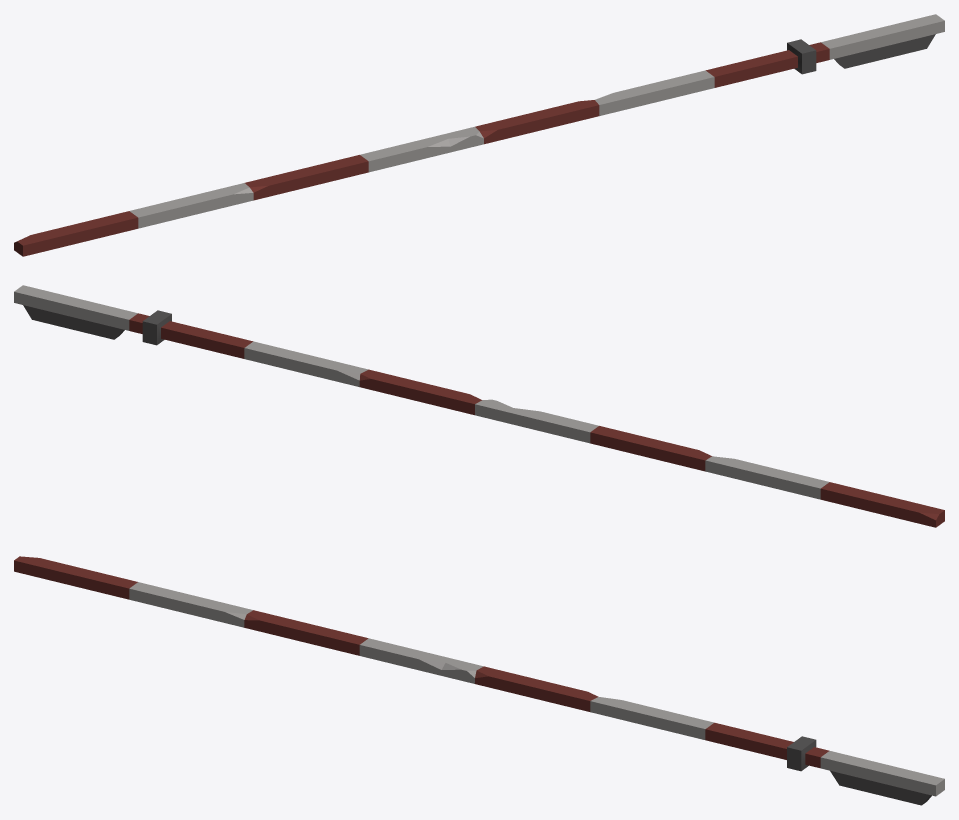
The model's file is SM_Prop_Road_Barrier_Arm_01.fbx.
3 renders of one model, top to bottom at view 1: azimuth 30°, elevation 25°; view 2: azimuth 150°, elevation 25°; view 3: azimuth 330°, elevation 25°, orthographic.
Visible parts, largest first — view 1: SM_Prop_Road_Barrier_Arm_01; view 2: SM_Prop_Road_Barrier_Arm_01; view 3: SM_Prop_Road_Barrier_Arm_01.
Boxes of the visible parts, x1,y1,x2,y2 form: SM_Prop_Road_Barrier_Arm_01: (14, 14, 944, 256); SM_Prop_Road_Barrier_Arm_01: (14, 285, 944, 527); SM_Prop_Road_Barrier_Arm_01: (14, 556, 944, 805).
Size of the model in its own units: 659 by 20.64 by 18.63.
